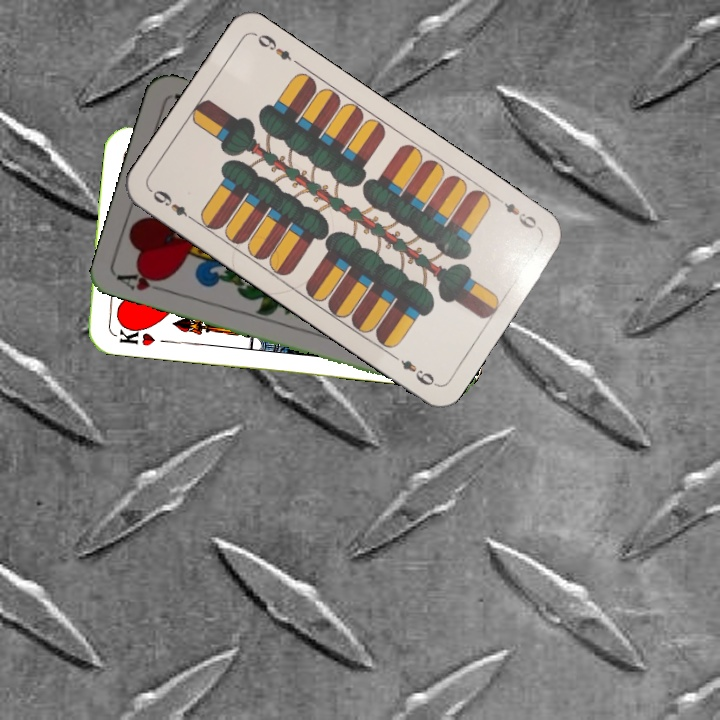E9: (492, 192, 542, 233), (146, 185, 198, 224)
HA: (113, 266, 172, 296)
HK: (115, 320, 158, 349)
